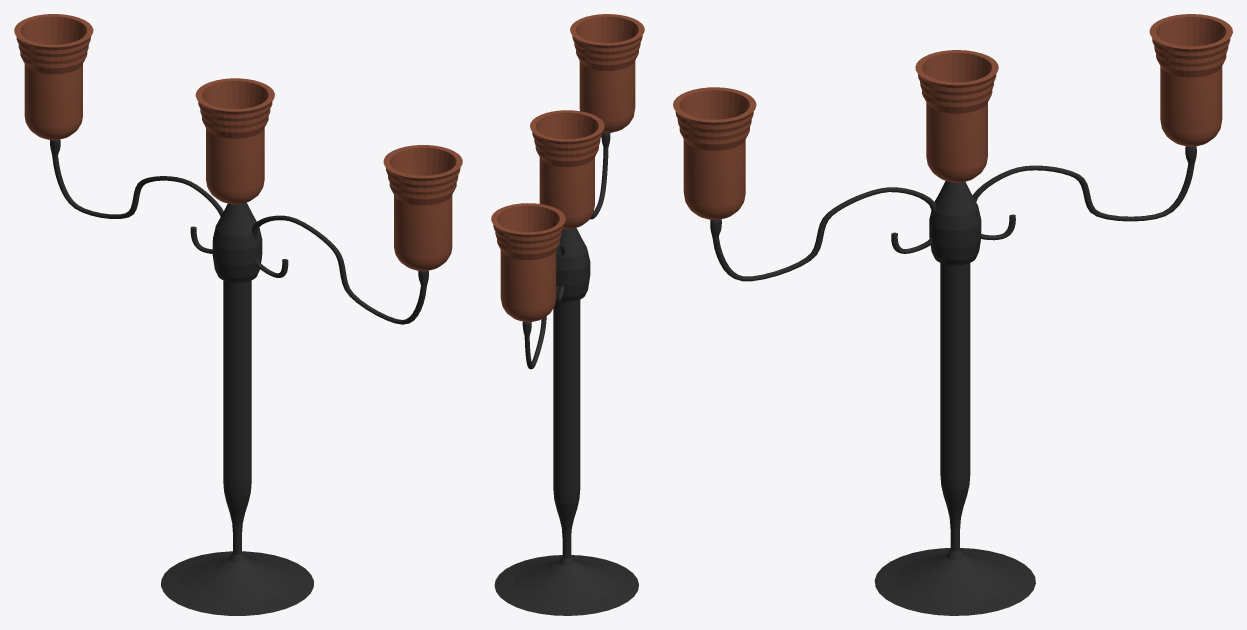
3 renders of one model, left to right at view 1: azimuth 30°, elevation 25°; view 2: azimuth 150°, elevation 25°; view 3: azimuth 270°, elevation 25°, orthographic. The views are drawn at different scales.
Parts seen in each view (by area): view 1: Cylinder001, Cylinder002, Cylinder004, Cylinder003, Line003, Line004; view 2: Cylinder001, Cylinder004, Cylinder003, Cylinder002, Line004, Line003; view 3: Cylinder001, Cylinder003, Cylinder004, Cylinder002, Line003, Line004.
Part boxes in pixels (x1,y1,x2,y2): Cylinder001: (161, 202, 313, 615); Cylinder002: (195, 78, 274, 204); Cylinder004: (14, 14, 93, 140); Cylinder003: (383, 145, 462, 271); Line003: (252, 215, 428, 324); Line004: (50, 139, 223, 253); Cylinder001: (494, 228, 638, 615); Cylinder004: (491, 203, 565, 322); Cylinder003: (570, 14, 644, 132); Cylinder002: (530, 110, 604, 229); Line004: (522, 243, 565, 369); Line003: (590, 132, 610, 219); Cylinder001: (874, 181, 1035, 615); Cylinder003: (673, 87, 756, 220); Cylinder004: (1149, 14, 1232, 146); Cylinder002: (915, 50, 998, 182); Line003: (710, 187, 936, 281); Line004: (972, 146, 1196, 240).
Size of the model in its own units: 148056 by 326593 by 322733.
